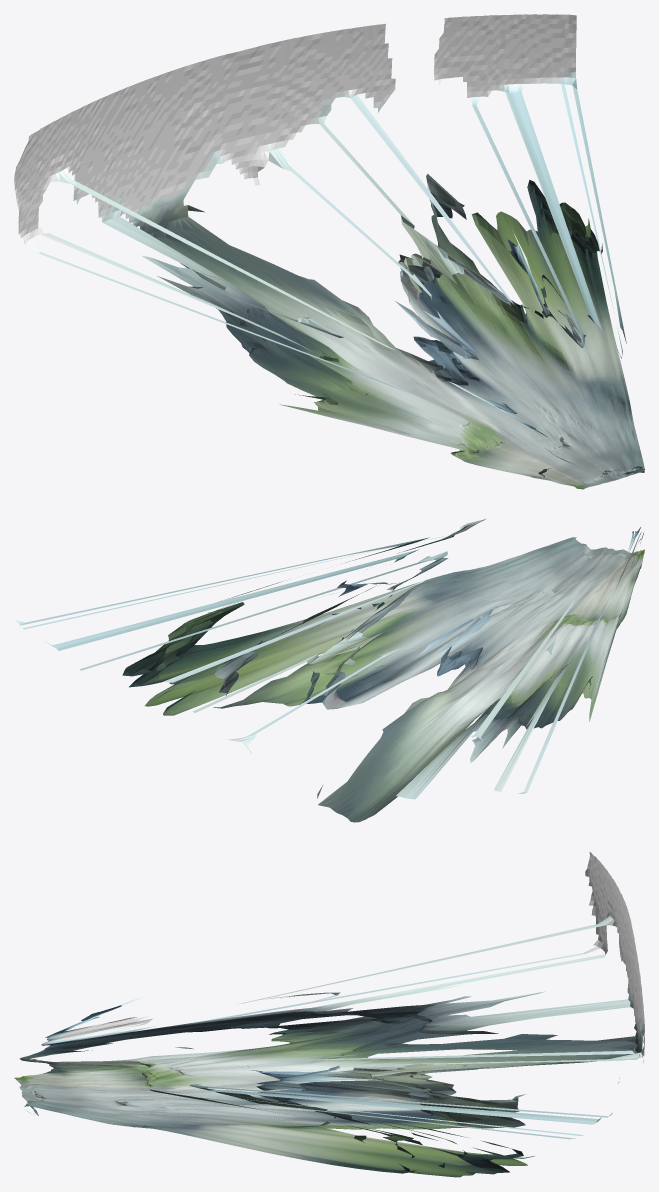
3 renders of one model, top to bottom at view 1: azimuth 30°, elevation 25°; view 2: azimuth 150°, elevation 25°; view 3: azimuth 270°, elevation 25°, orthographic. The views are drawn at different scales.
Parts seen in each view (by area): view 1: defaultobject; view 2: defaultobject; view 3: defaultobject.
Boxes of the visible parts, x1=… form: defaultobject: x1=14, y1=14, x2=644, y2=489; defaultobject: x1=15, y1=519, x2=644, y2=822; defaultobject: x1=14, y1=852, x2=644, y2=1177.
Size of the model in its own units: 39.08 by 12.43 by 44.79.
Materials: 1 (1 with a texture image).
